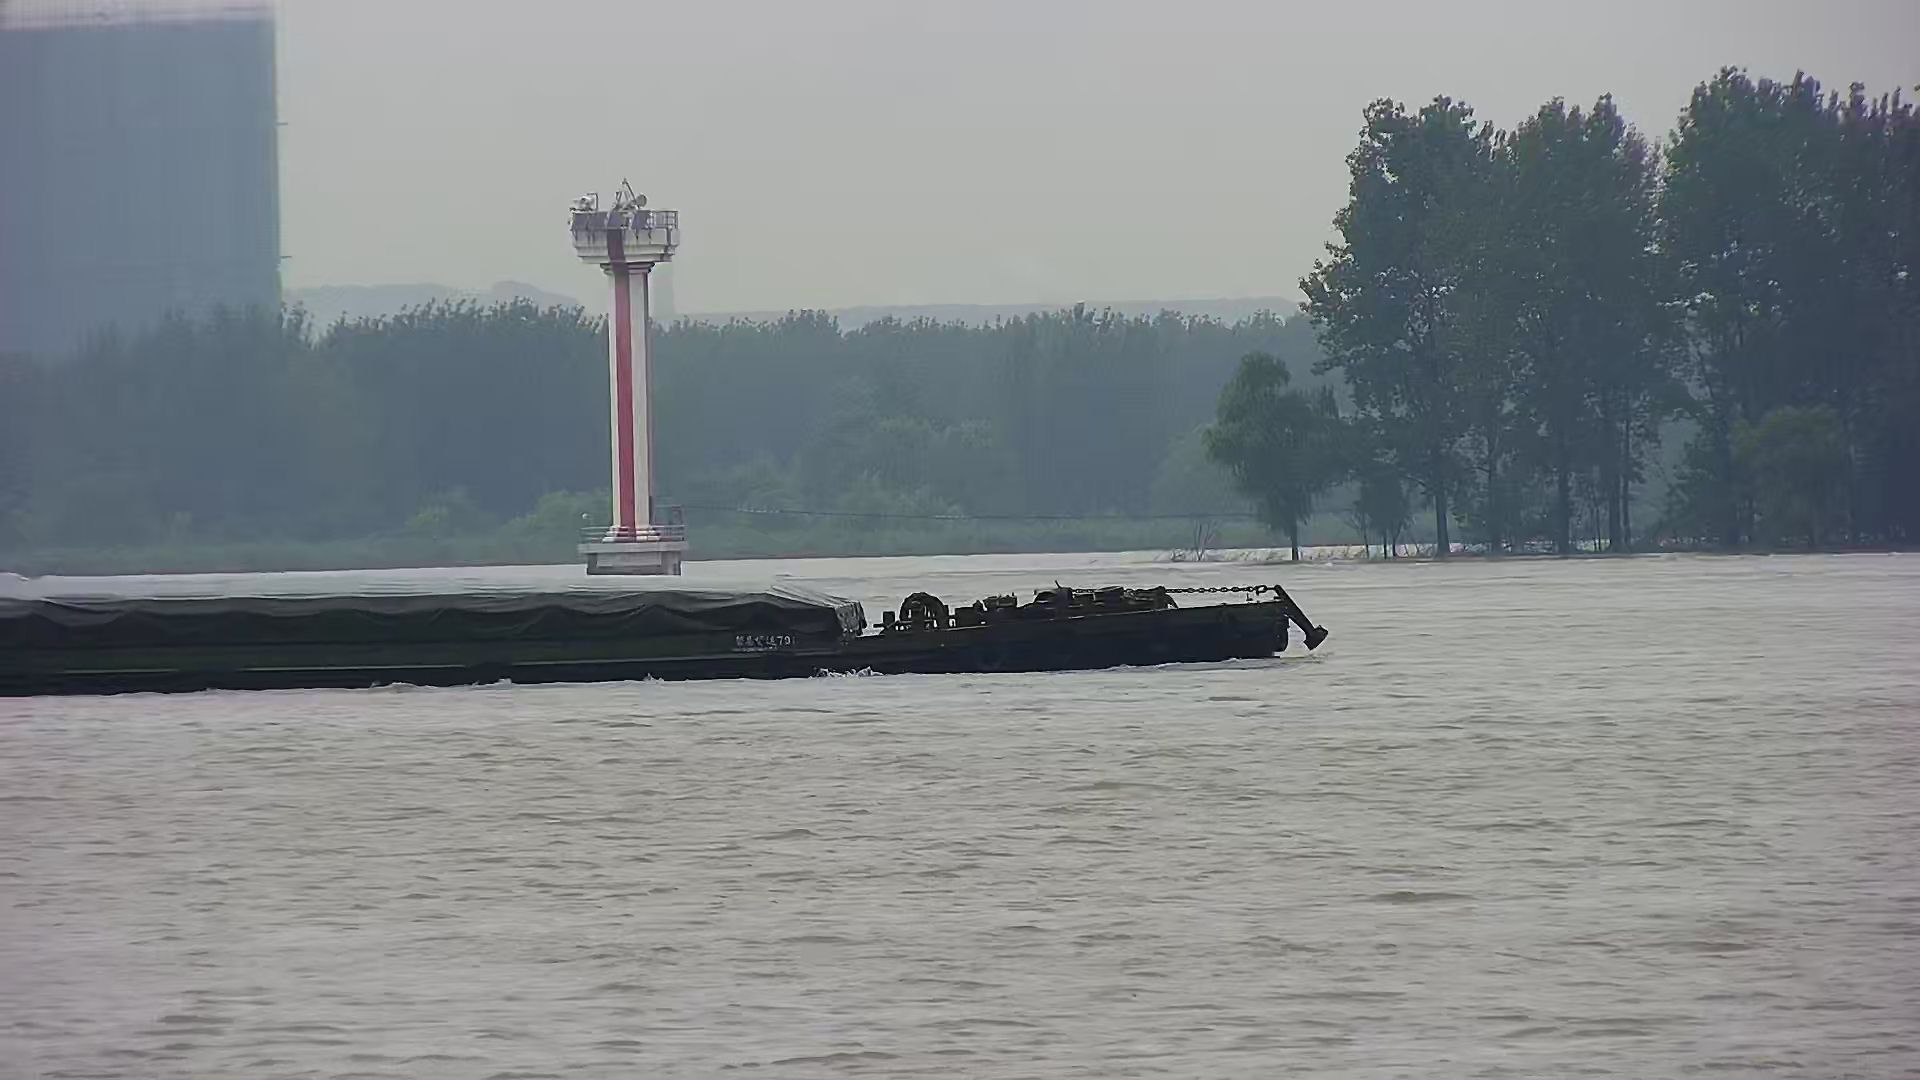platform: (574, 171, 684, 574)
ship: (1, 574, 1331, 695)
tree: (1429, 86, 1687, 551), (1716, 58, 1920, 555), (1304, 91, 1513, 556), (1654, 76, 1837, 554), (1200, 352, 1342, 560)
